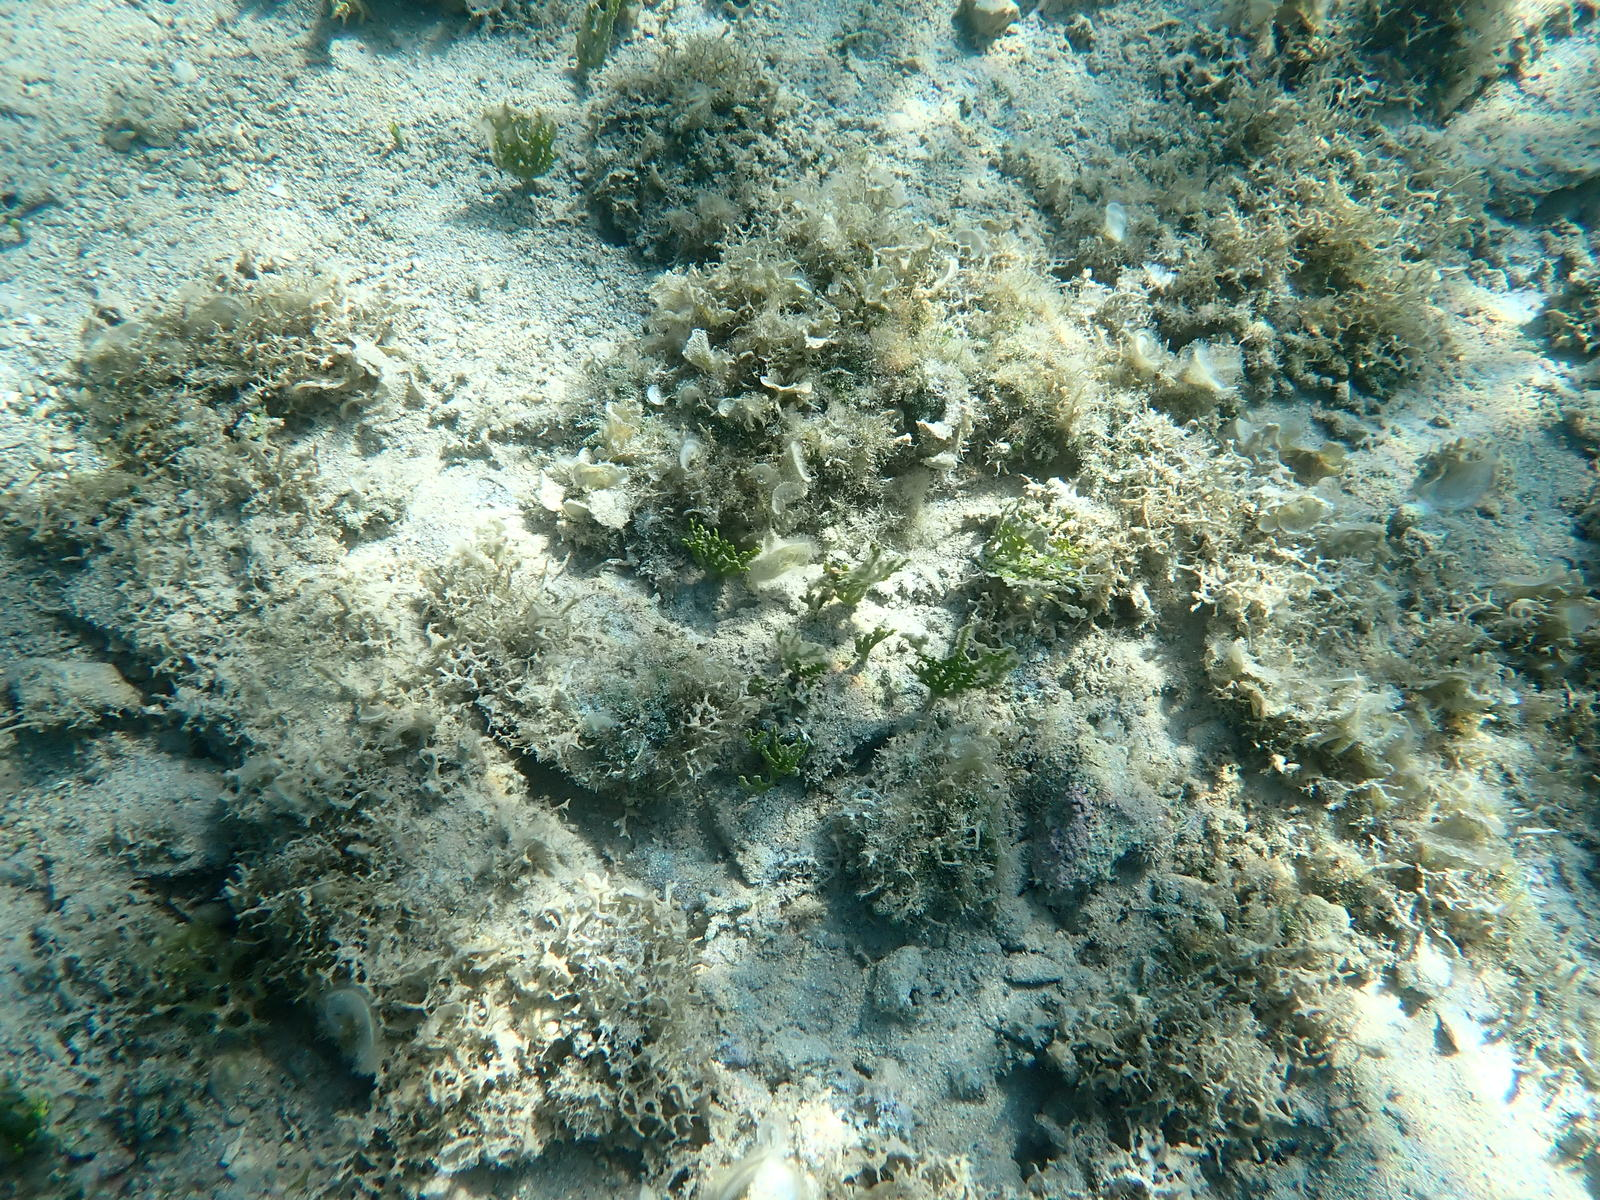halimeda: (986, 514, 1105, 616), (910, 626, 1029, 706), (481, 100, 561, 187), (679, 516, 763, 587), (826, 550, 908, 600), (569, 3, 617, 72), (782, 635, 825, 686), (758, 742, 806, 773), (852, 628, 891, 658), (734, 769, 775, 795), (742, 722, 774, 749), (389, 116, 403, 163), (801, 590, 828, 608)
